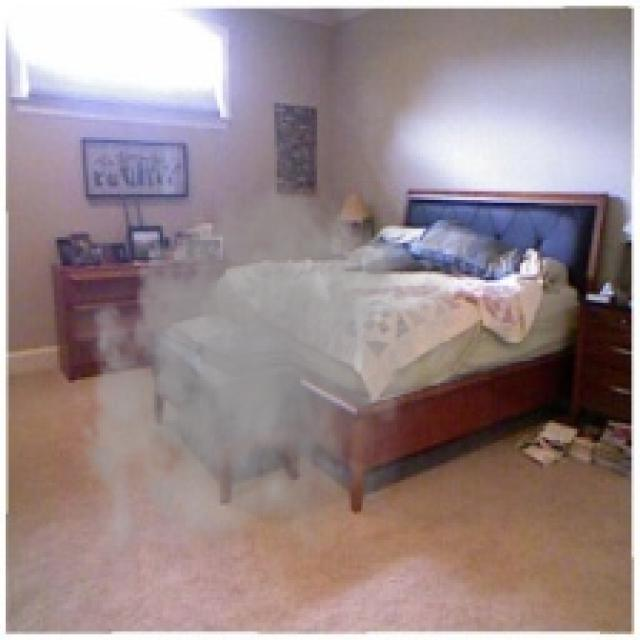smoke: (63, 166, 471, 583)
